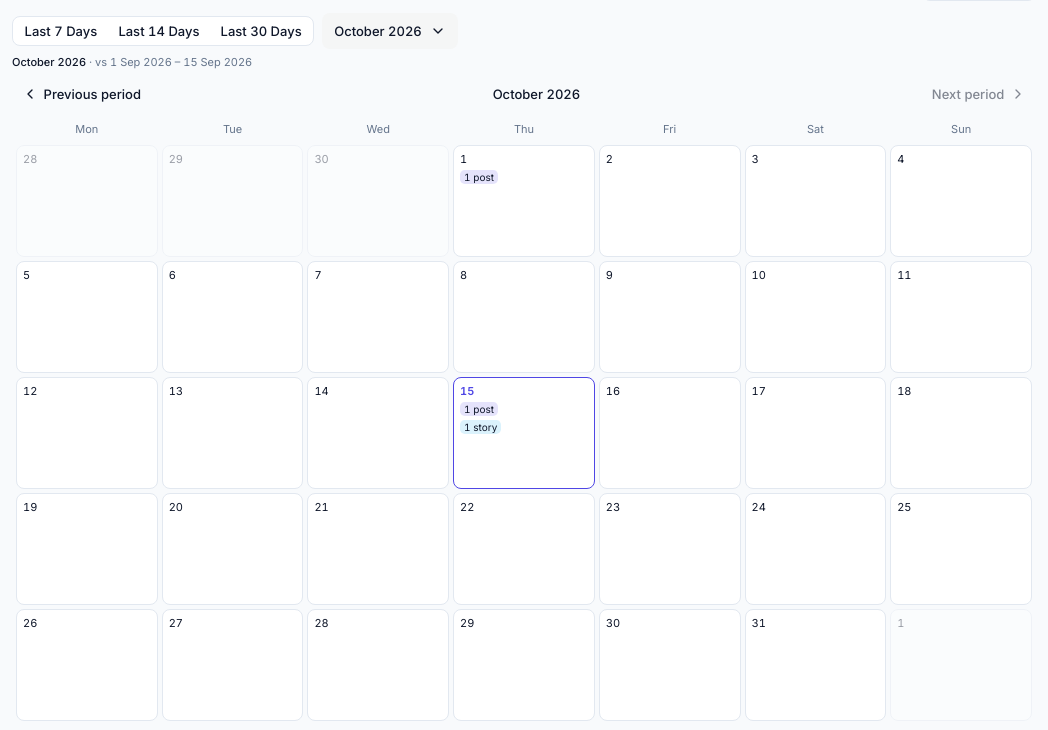
it: CalendarView › tapping a day shows its list (a post just after midnight local is on 1 Oct)
Click the button with aria-label "1 Oct 2026: 1 post, 0 stories": x=524, y=200 [453,144,595,256]
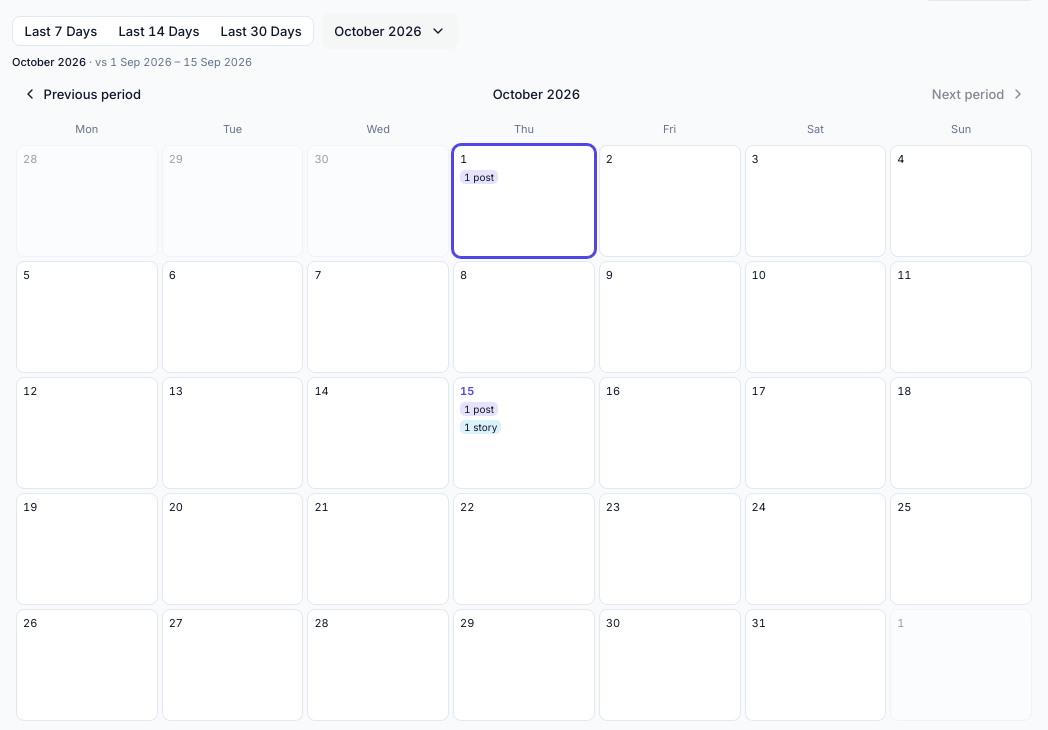
Click the button named "2 Oct 2026": x=670, y=200 [599,144,740,256]
(page scrolled)
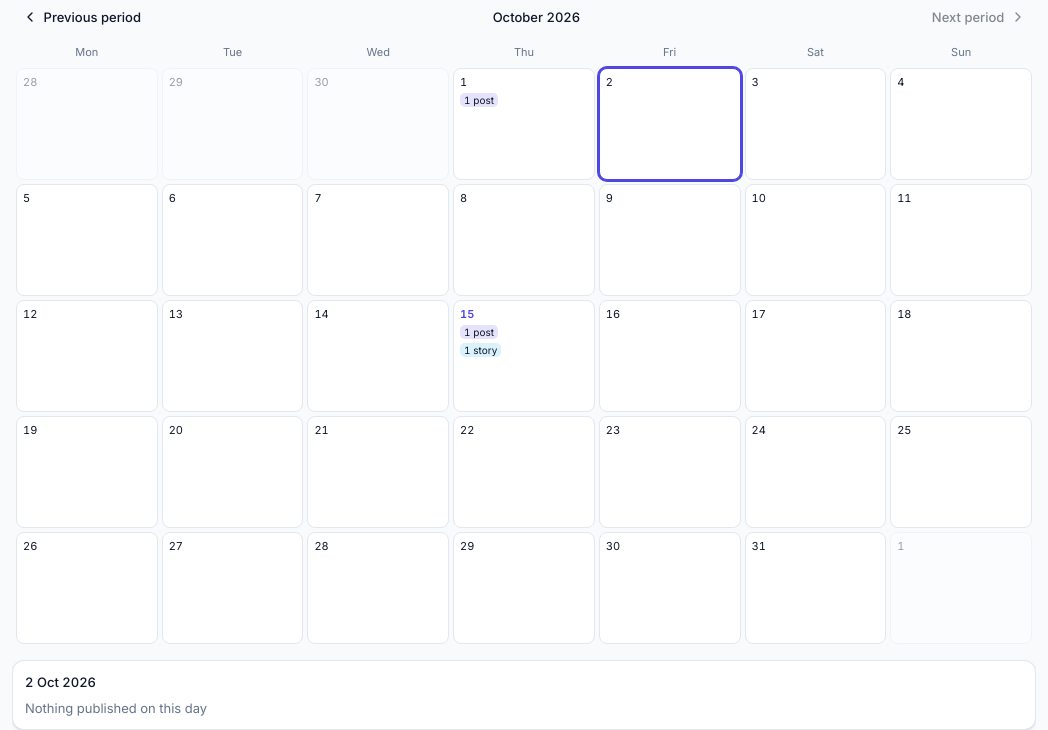
Result: the text "Nothing published on this day" is shown at [25,700,207,716]
